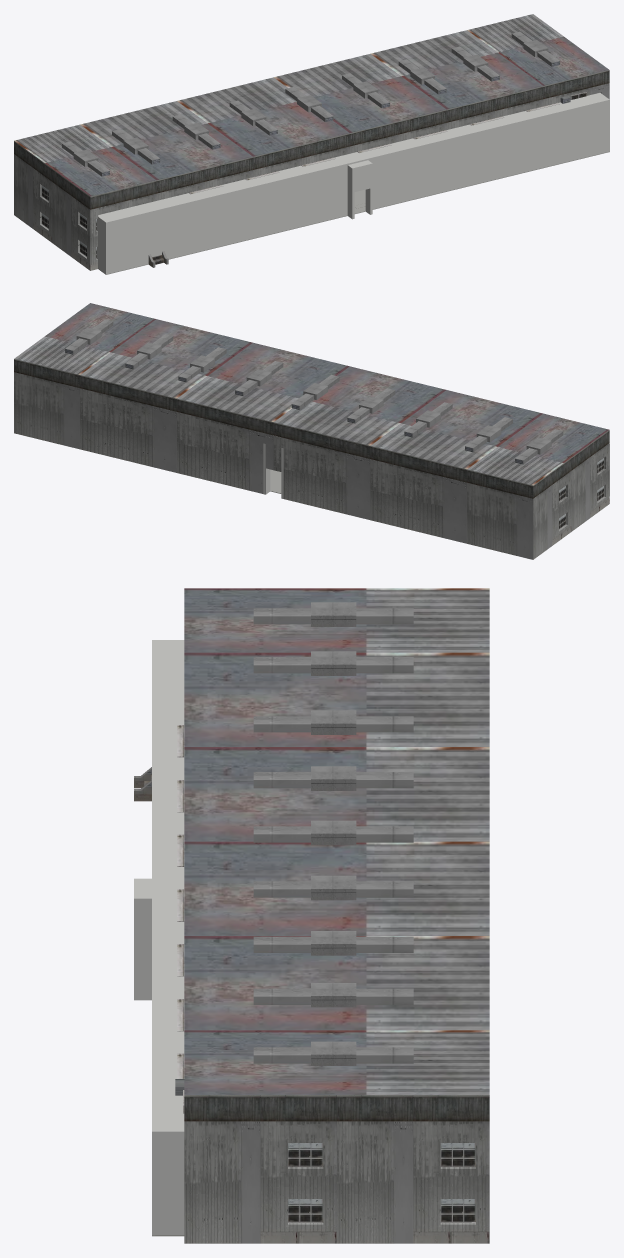
Rendered from ind-terminal.zfix-v1.lod0.glb.
3 renders of one model, top to bottom at view 1: azimuth 30°, elevation 25°; view 2: azimuth 150°, elevation 25°; view 3: azimuth 270°, elevation 25°, orthographic. The views are drawn at different scales.
Parts seen in each view (by area): view 1: Industrial_LogisticTerminal_1_Industrial_Walls_FLR_1_0, Walkable floors and stairs (×2), Industrial_LogisticTerminal_1_Industrial_Trim_FLR_1_0; view 2: Industrial_LogisticTerminal_1_Industrial_Walls_FLR_1_0, Industrial_LogisticTerminal_1_Industrial_Trim_FLR_1_0, Walkable floors and stairs; view 3: Industrial_LogisticTerminal_1_Industrial_Walls_FLR_1_0, Industrial_LogisticTerminal_1_Industrial_Trim_FLR_1_0, Walkable floors and stairs.
Boxes of the visible parts, left/top/right/bottom form: Industrial_LogisticTerminal_1_Industrial_Walls_FLR_1_0: left=14, top=14, right=609, bottom=270; Walkable floors and stairs (×2): left=41, top=93, right=609, bottom=274; Industrial_LogisticTerminal_1_Industrial_Trim_FLR_1_0: left=42, top=31, right=586, bottom=267; Industrial_LogisticTerminal_1_Industrial_Walls_FLR_1_0: left=14, top=303, right=609, bottom=559; Industrial_LogisticTerminal_1_Industrial_Trim_FLR_1_0: left=65, top=319, right=604, bottom=529; Walkable floors and stairs: left=263, top=443, right=609, bottom=498; Industrial_LogisticTerminal_1_Industrial_Walls_FLR_1_0: left=184, top=588, right=489, bottom=1243; Industrial_LogisticTerminal_1_Industrial_Trim_FLR_1_0: left=134, top=602, right=475, bottom=1222; Walkable floors and stairs: left=134, top=640, right=471, bottom=1235.
Size of the model in its own units: 53.43 by 7.88 by 15.86.
Materials: 4 (2 with a texture image).
